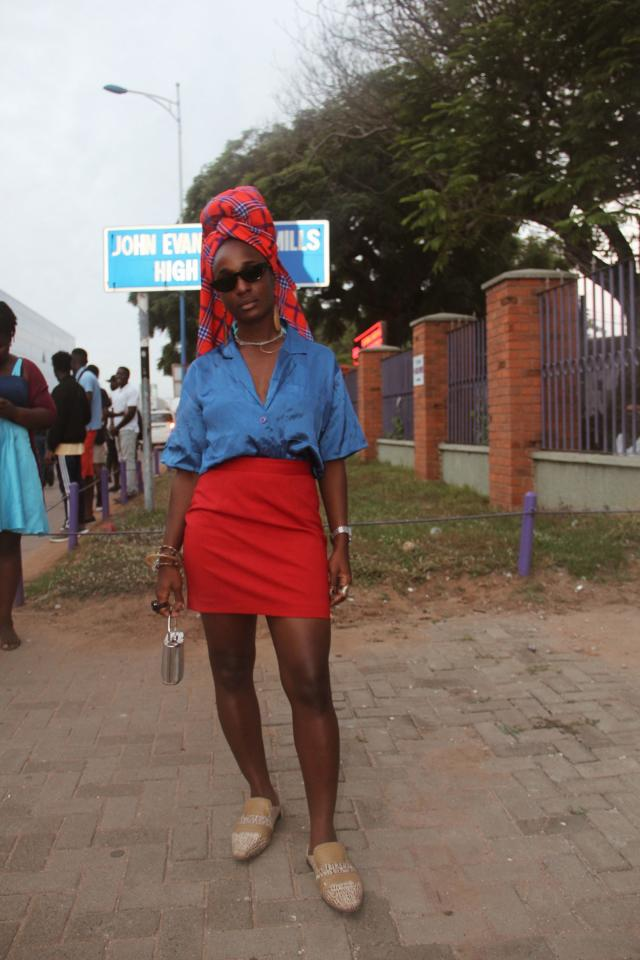person: (149, 182, 370, 933), (1, 296, 54, 655), (52, 350, 86, 538), (75, 347, 100, 500), (112, 360, 138, 493)
